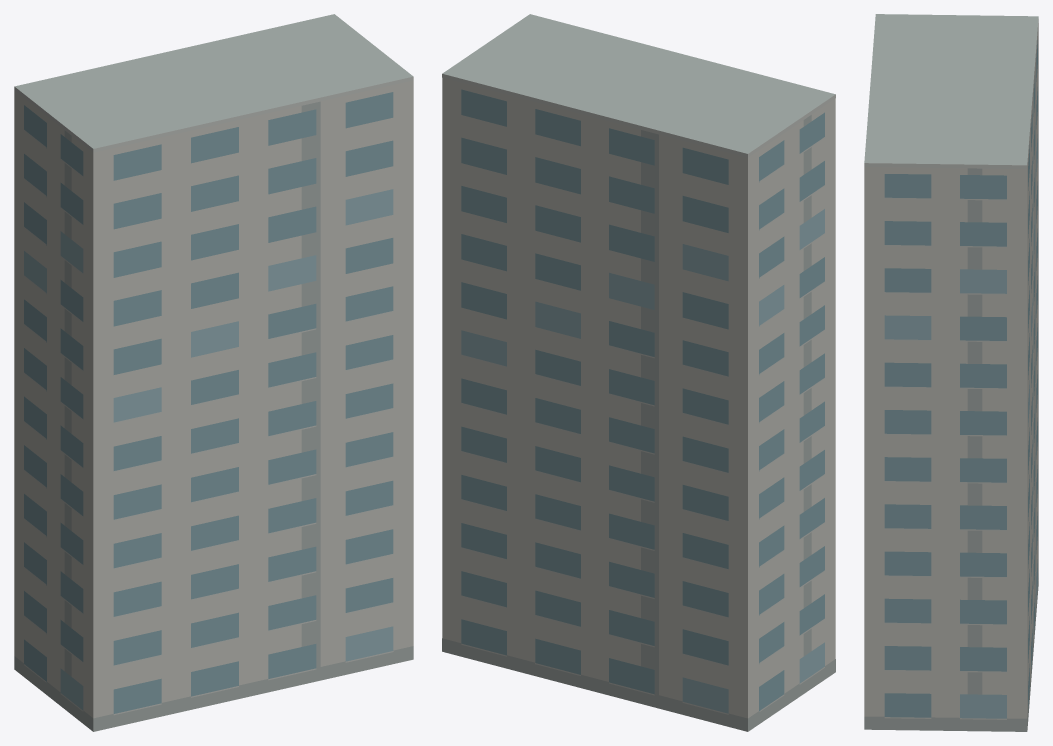
Rendered from residential-c14b04b7-e807-4520-9011-755db9c486f4.glb.
The picture shows the model from 3 angles, left to right: view 1: azimuth 30°, elevation 25°; view 2: azimuth 150°, elevation 25°; view 3: azimuth 270°, elevation 25°; orthographic projection. The views are drawn at different scales.
Visible parts, largest first — view 1: residential-c14b04b7-e807-4520-9011-755db9c486f4.tmp; view 2: residential-c14b04b7-e807-4520-9011-755db9c486f4.tmp; view 3: residential-c14b04b7-e807-4520-9011-755db9c486f4.tmp.
Part boxes in pixels (bbox=[...]): residential-c14b04b7-e807-4520-9011-755db9c486f4.tmp: bbox=[14, 14, 413, 731]; residential-c14b04b7-e807-4520-9011-755db9c486f4.tmp: bbox=[442, 14, 835, 731]; residential-c14b04b7-e807-4520-9011-755db9c486f4.tmp: bbox=[864, 14, 1038, 731].
Size of the model in its own units: 20.63 by 36 by 10.05.
